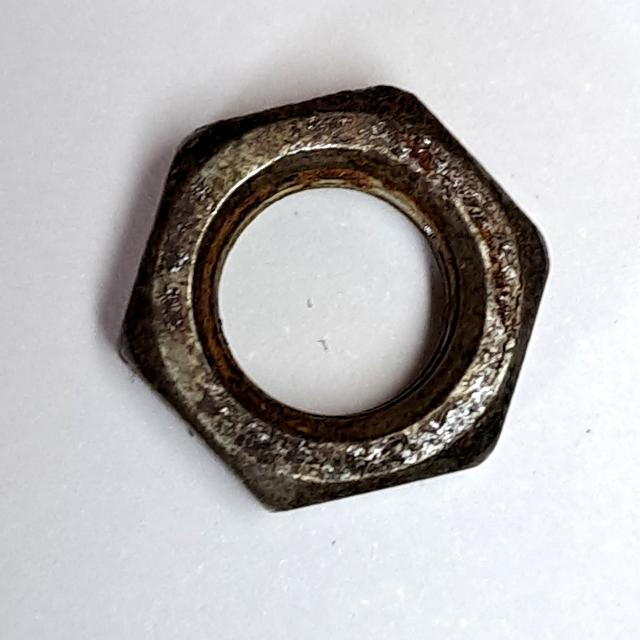Rust: (100, 72, 564, 534)
